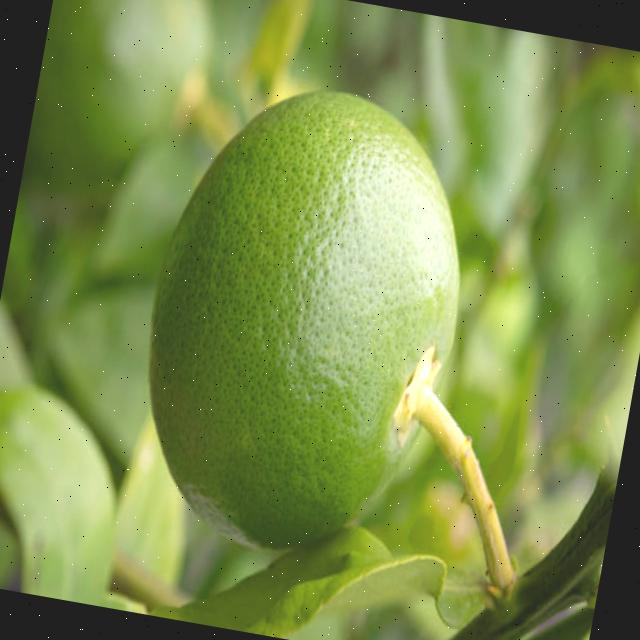Unripe: (114, 71, 496, 574)
